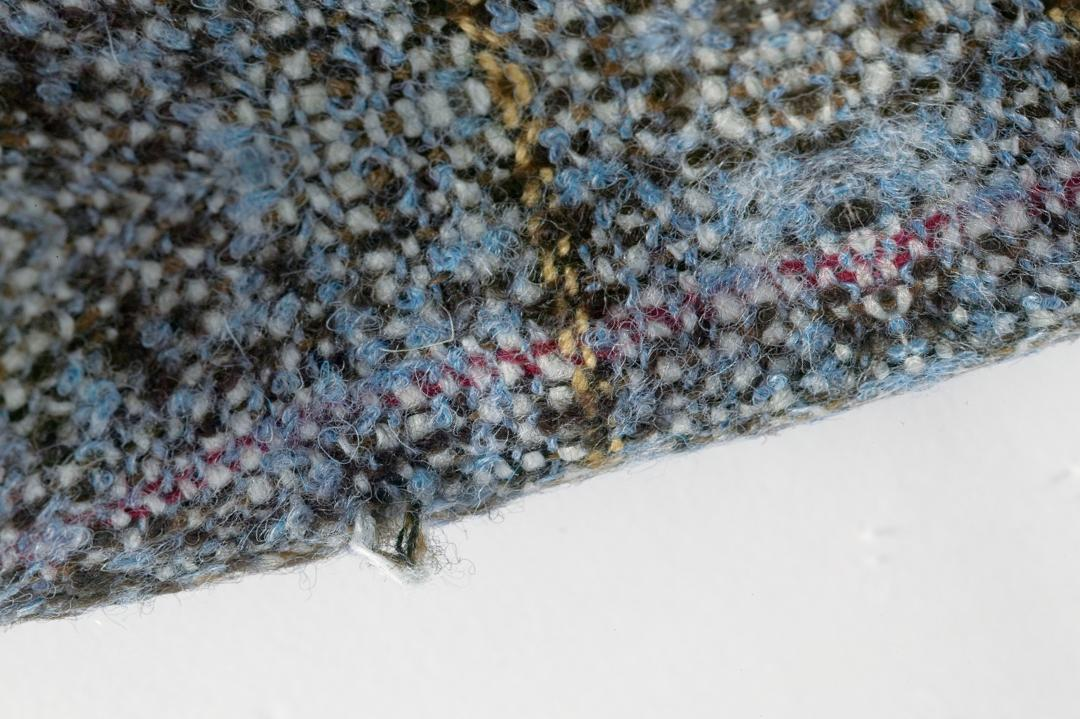snag: (301, 486, 460, 590)
